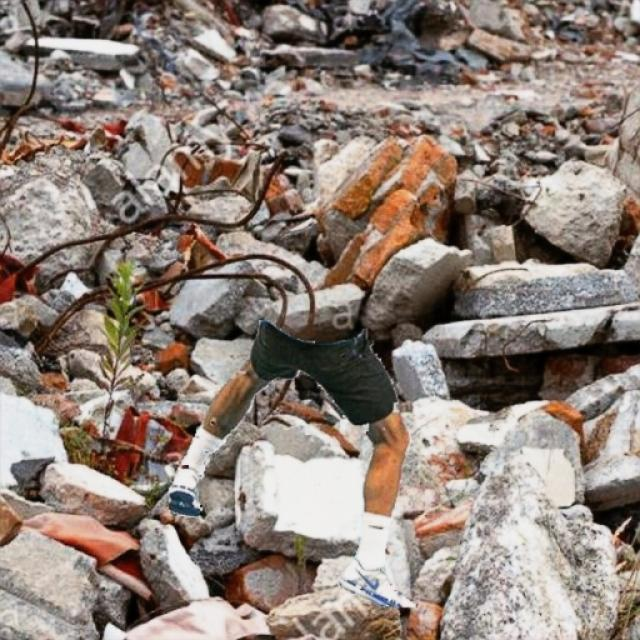Person in Rubble: (168, 320, 416, 606)
